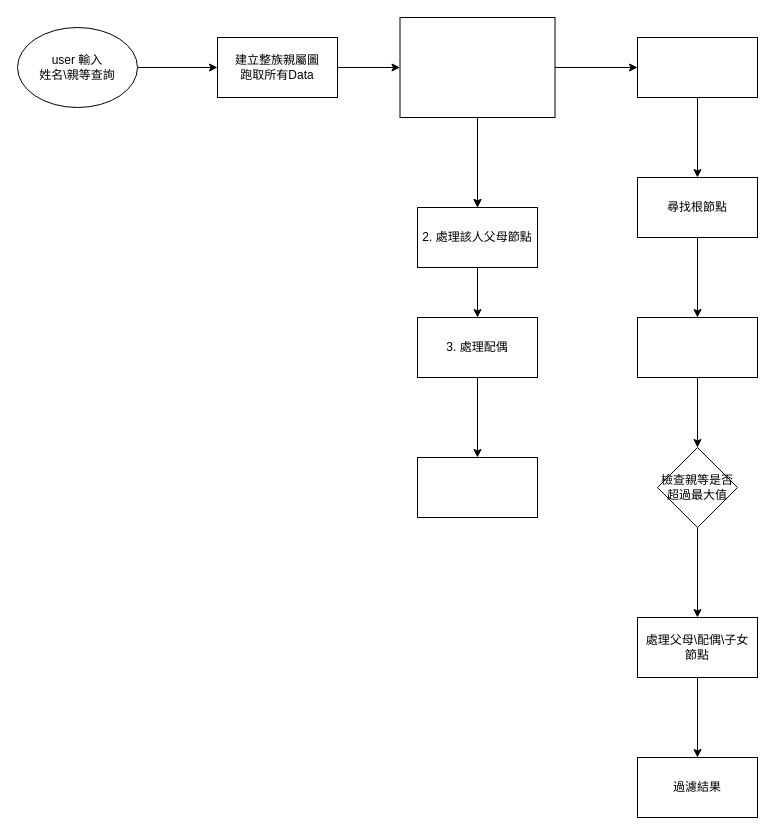
Image size: 775x835. Some labels were removed from this diagram. Here are the shapes that lost their labels. From the top down, the box of each, then its label:
(399, 16, 555, 118): 1. 檢查該人是否已建立 - 配偶是否增加 - 父母配偶相同，名字不同 - PID相同，資料不同
(636, 36, 758, 98): 找尋該人親屬圖/親等
(636, 316, 758, 378): 取出隊列中的當前節點和親等
(416, 456, 538, 518): 4. 處理該人資料(若尚未建立過)
